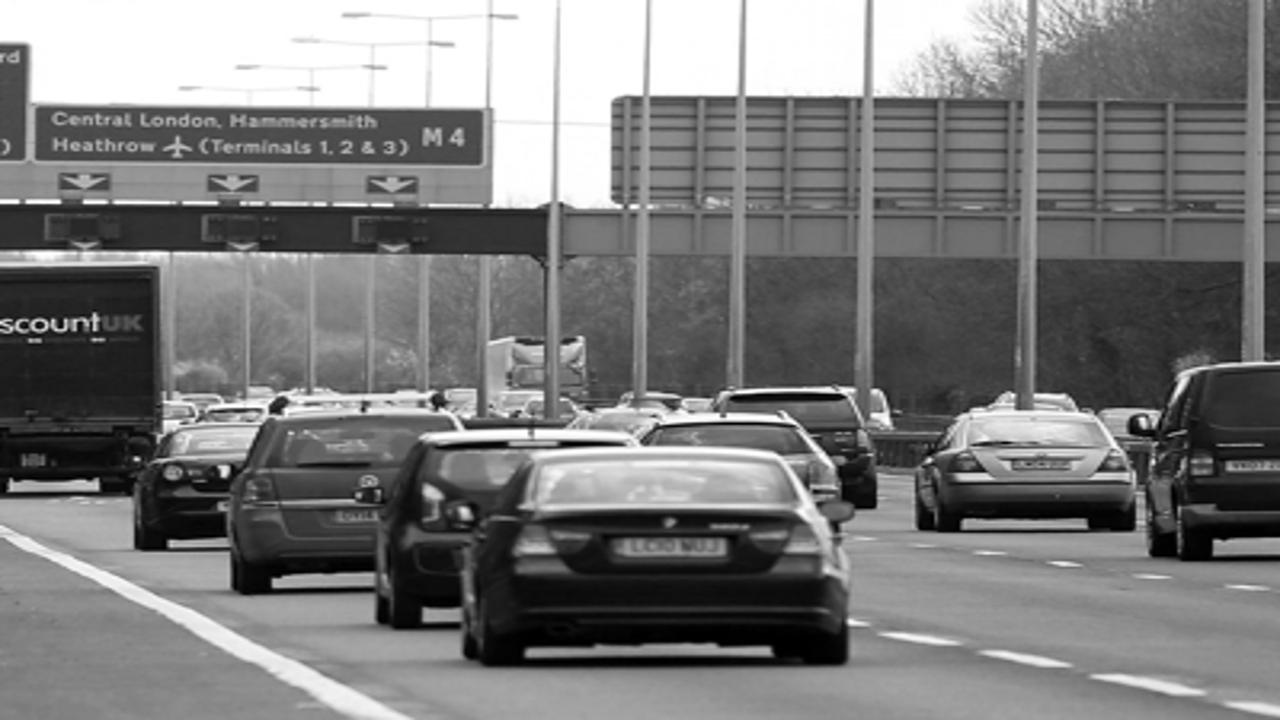license: (607, 531, 736, 564), (327, 504, 383, 530), (1007, 455, 1080, 474), (1221, 455, 1280, 475)
